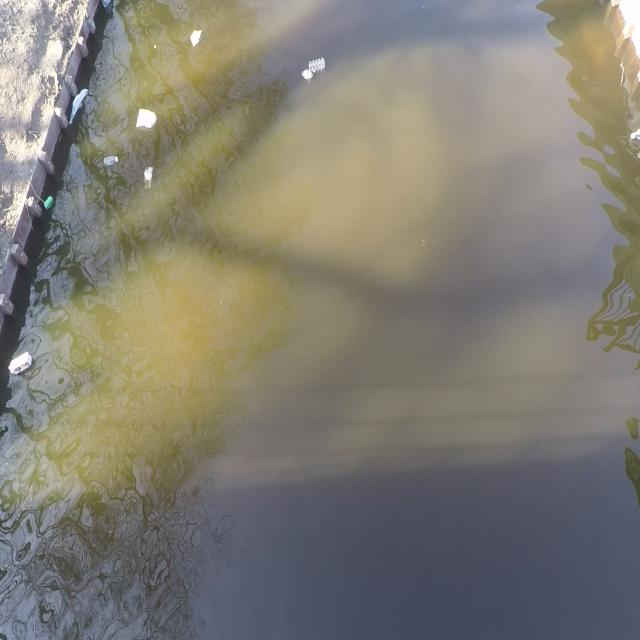Bouteille plastique: (99, 151, 120, 174)
Non plastique: (4, 351, 34, 385)
Sac plastique: (66, 83, 90, 130)
